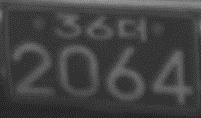0: (57, 43, 100, 98)
2: (12, 40, 56, 97)
3: (53, 11, 81, 39)
4: (151, 49, 194, 106)
6: (105, 46, 146, 102), (85, 14, 114, 41)
더: (117, 15, 147, 43)
